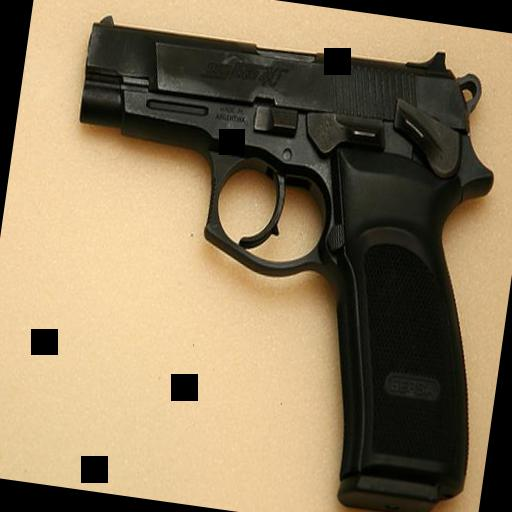Handgun: (26, 0, 512, 512)
